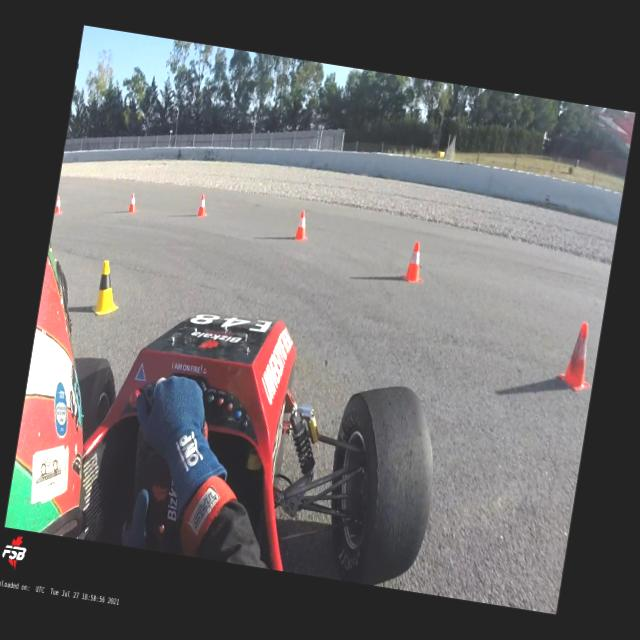orange_cone: (555, 319, 600, 393), (401, 240, 428, 284), (294, 210, 312, 242), (197, 194, 210, 218), (128, 193, 140, 215), (54, 195, 65, 216)
yellow_cone: (90, 260, 124, 320)
